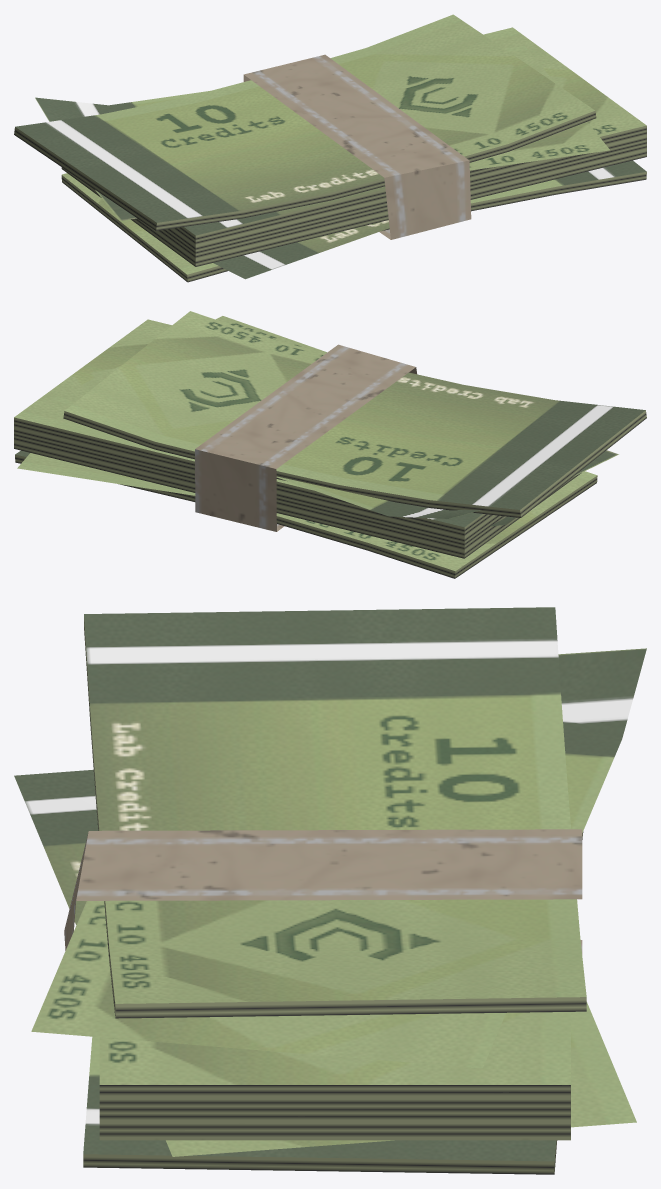
The model's file is SM_Bills_a01.fbx.
The picture shows the model from 3 angles, top to bottom: view 1: azimuth 30°, elevation 25°; view 2: azimuth 150°, elevation 25°; view 3: azimuth 270°, elevation 25°; orthographic projection. The views are drawn at different scales.
Visible parts, largest first — view 1: SM_Bills_a01; view 2: SM_Bills_a01; view 3: SM_Bills_a01.
Part boxes in pixels (x1=…): SM_Bills_a01: x1=14, y1=14, x2=646, y2=282; SM_Bills_a01: x1=14, y1=311, x2=646, y2=578; SM_Bills_a01: x1=14, y1=607, x2=646, y2=1174.
Size of the model in its own units: 34.69 by 4.83 by 20.73.
1 material, 1 textured.
